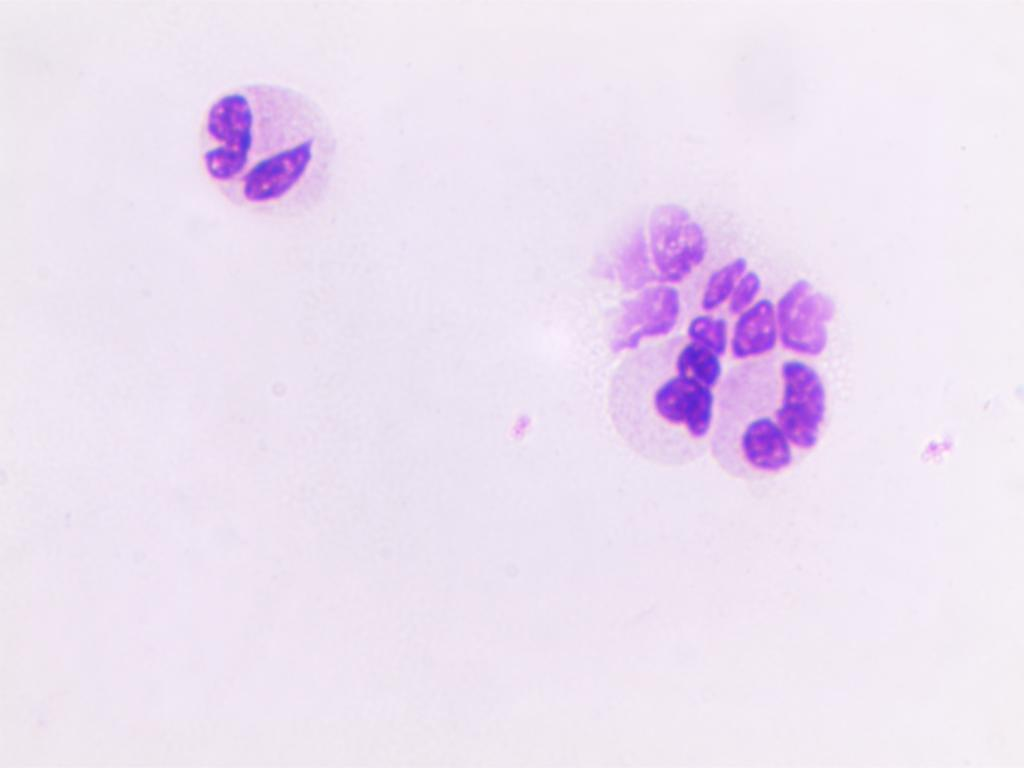neutrophil: (194, 72, 346, 223), (589, 186, 694, 346), (698, 238, 836, 356), (605, 330, 722, 464), (729, 342, 828, 494)
